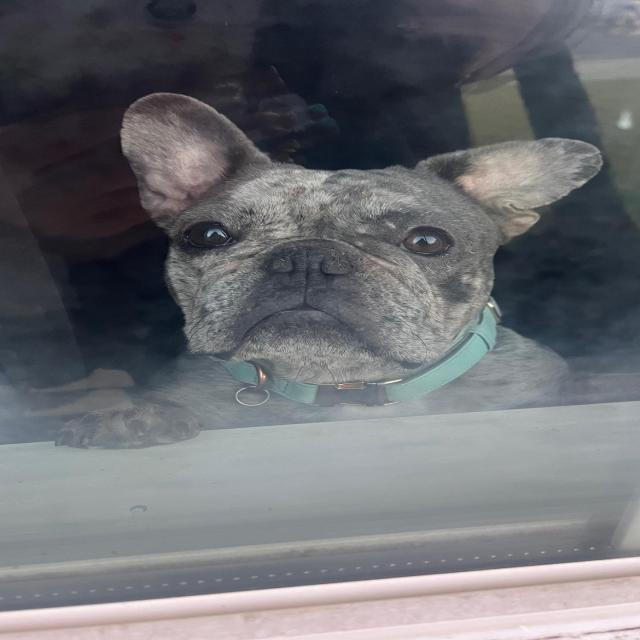french_bulldog_dog: (119, 85, 610, 392)
